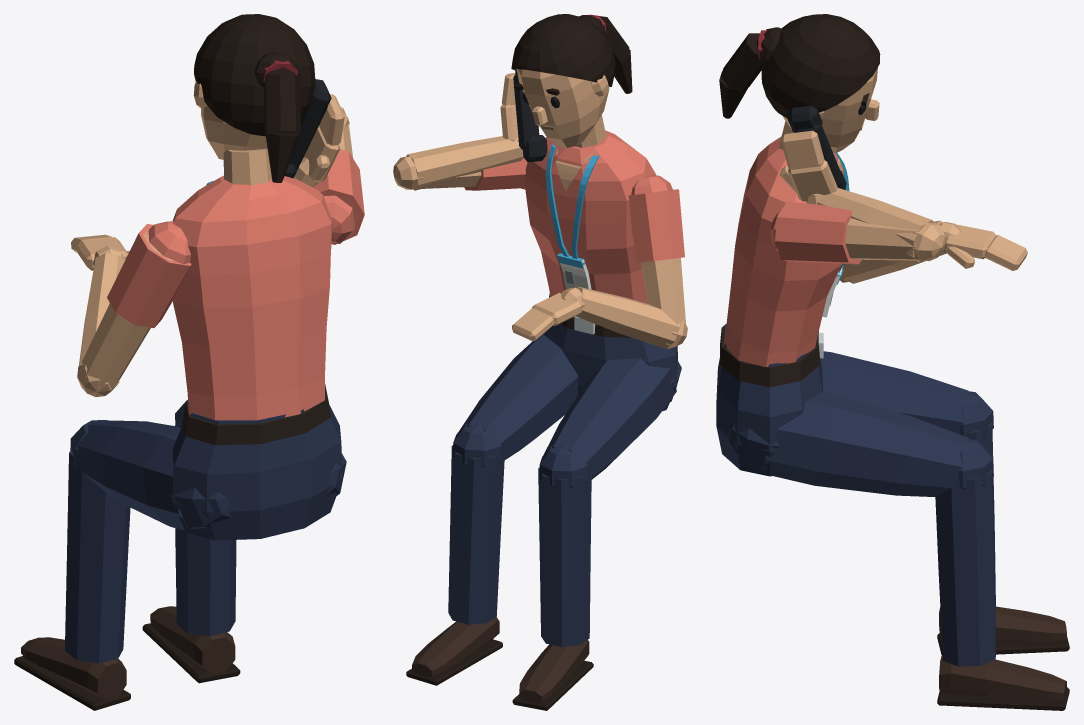
File: person_coworker_phone.glb
3 views of the same model, side by side, from view 1: azimuth 30°, elevation 25°; view 2: azimuth 150°, elevation 25°; view 3: azimuth 270°, elevation 25° (orthographic). The views are drawn at different scales.
Parts seen in each view (by area): view 1: Chest, Hips, Head, Shin_L, Thigh_L, UpperArm_L, Shin_R, Foot_L, Foot_R, UpperArm_R, Forearm_L, Hand_R (+3 smaller); view 2: Chest, Head, Shin_L, Shin_R, Thigh_L, Thigh_R, UpperArm_L, Hips, Forearm_R, Forearm_L, Foot_R, Foot_L (+4 smaller); view 3: Thigh_R, Chest, Head, Shin_R, Hips, UpperArm_R, Thigh_L, Foot_R, Forearm_R, Foot_L, Hand_R, Hand_L (+3 smaller).
Boxes of the visible parts, x1,y1,x2,y2 form: Chest: (172,175,332,420); Hips: (172,384,342,540); Head: (193,14,315,182); Shin_L: (65,420,130,663); Thigh_L: (76,420,231,530); UpperArm_L: (80,221,191,388); Shin_R: (175,400,236,636); Foot_L: (14,637,130,710); Foot_R: (142,606,240,683); UpperArm_R: (313,123,364,244); Forearm_L: (77,253,124,396); Hand_R: (294,94,344,187); Chest: (524,130,656,303); Head: (511,14,632,147); Shin_L: (538,444,591,646); Shin_R: (448,423,504,624); Thigh_L: (543,358,681,479); Thigh_R: (458,334,578,460); UpperArm_L: (628,174,686,328); Hips: (541,293,677,410); Forearm_R: (393,136,523,190); Forearm_L: (576,286,687,348); Foot_R: (406,617,502,685); Foot_L: (512,640,593,710); Thigh_R: (728,392,969,496); Chest: (723,137,849,366); Head: (719,14,880,153); Shin_R: (935,439,995,666); Hips: (716,324,823,476); UpperArm_R: (770,201,923,264); Thigh_L: (820,351,969,433); Foot_R: (937,655,1069,710); Forearm_R: (817,188,946,261); Foot_L: (937,606,1069,655); Hand_R: (780,130,837,204); Hand_L: (939,222,1027,270).
Bounding box in the file's own units: 0.5715 × 1.27 × 0.6091.
